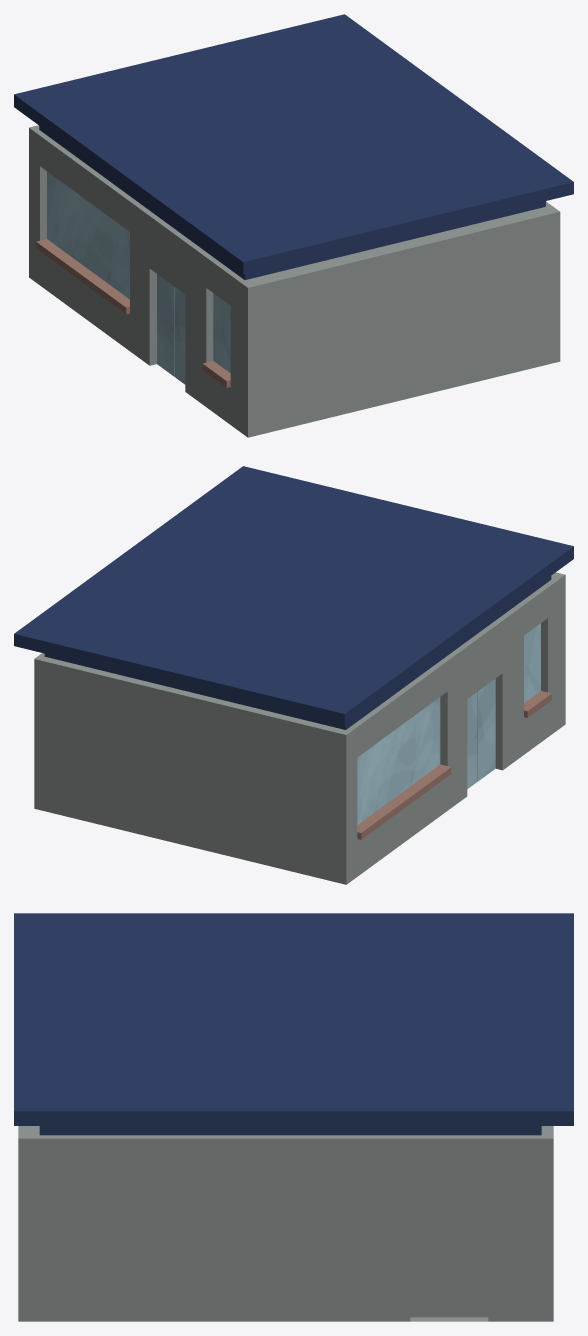
File: TPCS_Store_004_V1.fbx
3 views of the same model, one above another, from view 1: azimuth 30°, elevation 25°; view 2: azimuth 150°, elevation 25°; view 3: azimuth 270°, elevation 25° (orthographic). The views are drawn at different scales.
Parts seen in each view (by area): view 1: strore_1.035; view 2: strore_1.035; view 3: strore_1.035.
Part boxes in pixels (bbox=[...]): strore_1.035: bbox=[14, 14, 573, 437]; strore_1.035: bbox=[14, 466, 573, 884]; strore_1.035: bbox=[14, 913, 573, 1321].
Size of the model in its own units: 636 by 328 by 763.
